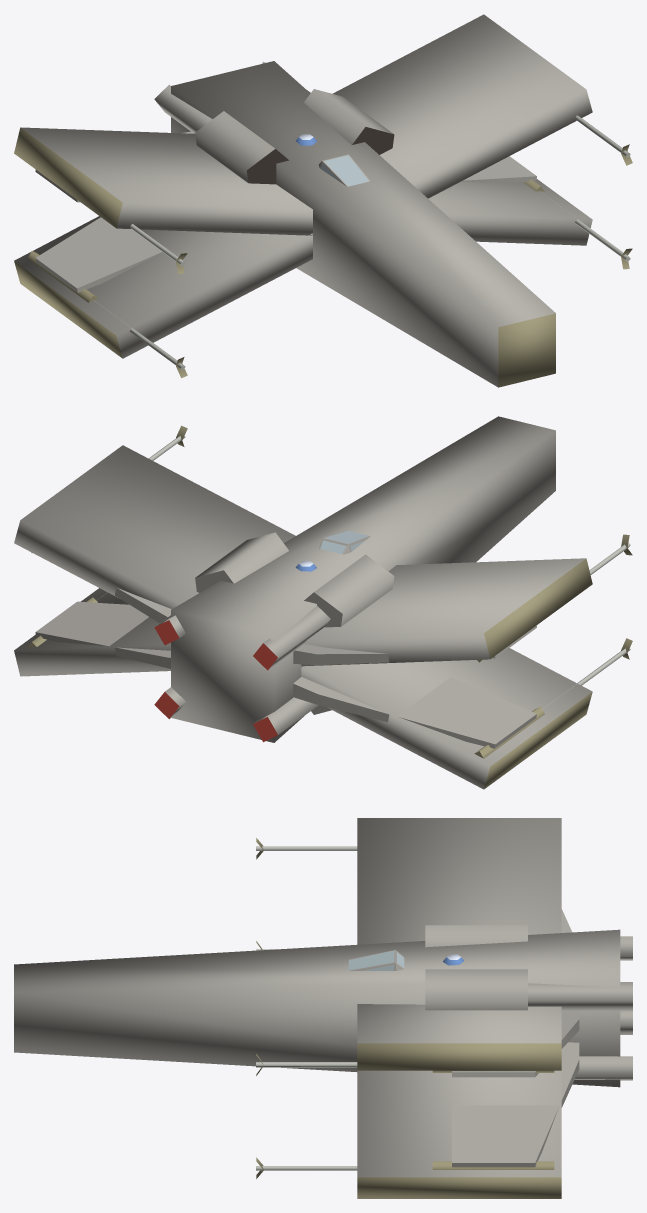
Rendered from XWing.fbx.
3 views of the same model, one above another, from view 1: azimuth 30°, elevation 25°; view 2: azimuth 150°, elevation 25°; view 3: azimuth 270°, elevation 25° (orthographic).
Parts seen in each view (by area): view 1: LOD, WingBottomRight, WingTopRight, WingTopLeft, WingBottomLeft, Cockpit; view 2: LOD, WingBottomRight, WingTopRight, WingBottomLeft, WingTopLeft, Cockpit; view 3: LOD, WingBottomLeft, WingTopLeft, WingTopRight, Cockpit.
Boxes of the visible parts, x1,y1,x2,y2 form: LOD: (14, 14, 592, 387); WingBottomRight: (27, 217, 187, 378); WingTopRight: (35, 84, 288, 273); WingTopLeft: (262, 61, 632, 165); WingBottomLeft: (461, 156, 632, 269); Cockpit: (318, 154, 370, 186); LOD: (14, 416, 592, 789); WingBottomRight: (253, 638, 632, 758); WingTopRight: (253, 534, 632, 670); WingBottomLeft: (28, 592, 185, 719); WingTopLeft: (31, 425, 288, 644); Cockpit: (318, 530, 370, 554); LOD: (14, 818, 620, 1198); WingBottomLeft: (256, 1042, 632, 1178); WingTopLeft: (256, 969, 632, 1077); WingTopRight: (256, 838, 632, 960); Cockpit: (348, 950, 404, 970).
Bounding box in the file's own units: 13.9 × 4.36 × 15.72.
